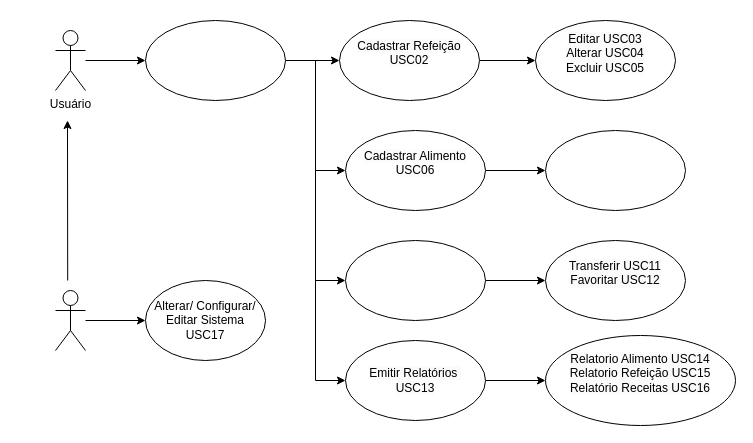
This 753x443 diagram has some shape labels left out. Each missing label, with the centre of its shape:
"ADM/ DEVELOPER" belongs at (70,320).
"Autenticar acesso Sistema USC01" belongs at (215,60).
"Consultar Receita USC10" belongs at (415,280).
"Editar USC07 Alterar USC08 Excluir USC09" belongs at (615,170).
